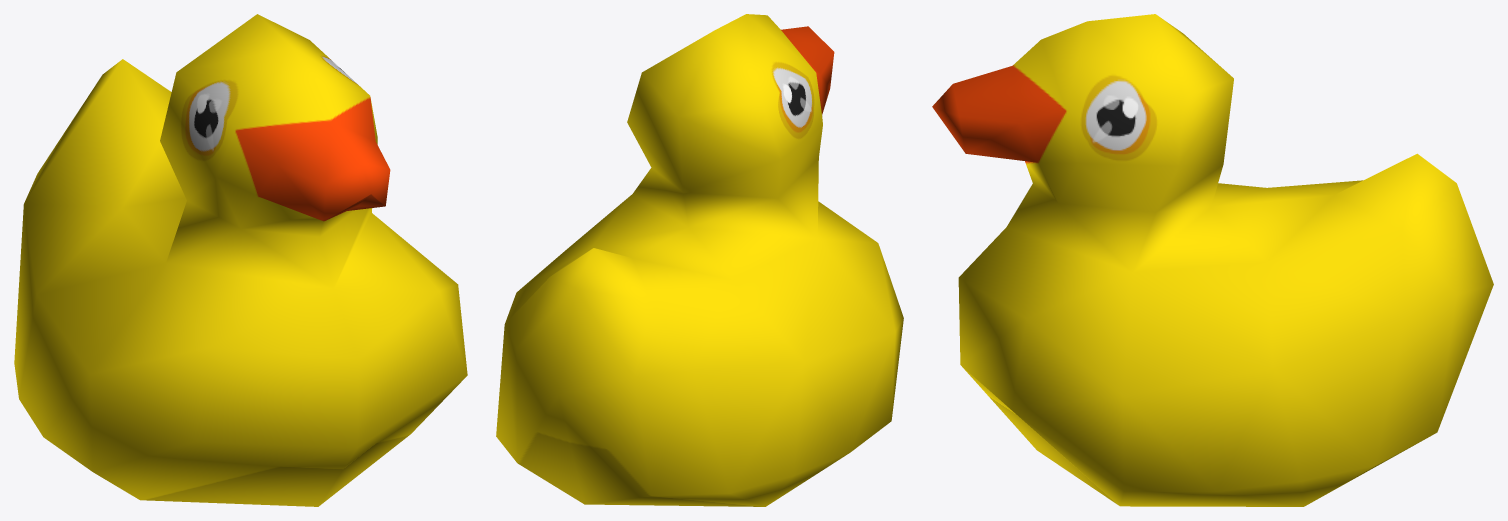
File: ToonWater - RubberDuck MDL.fbx
The picture shows the model from 3 angles, left to right: view 1: azimuth 30°, elevation 25°; view 2: azimuth 150°, elevation 25°; view 3: azimuth 270°, elevation 25°; orthographic projection. The views are drawn at different scales.
Parts seen in each view (by area): view 1: polySurface1; view 2: polySurface1; view 3: polySurface1.
Part boxes in pixels (left/top/right/bottom): polySurface1: left=14, top=14, right=467, bottom=506; polySurface1: left=496, top=14, right=903, bottom=506; polySurface1: left=932, top=14, right=1493, bottom=506.
Bounding box in the file's own units: 3.47 × 4.04 × 4.72.
Materials: 1 (1 with a texture image).
